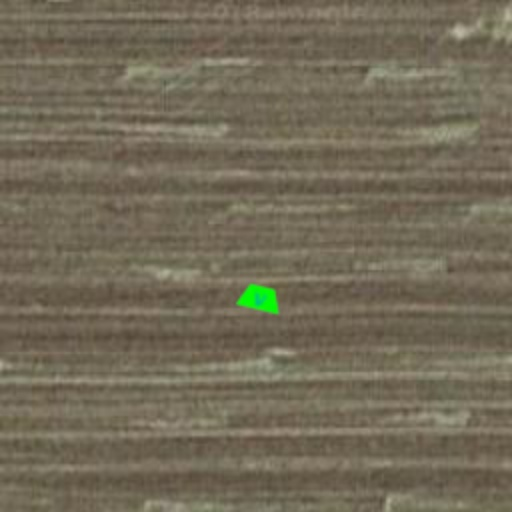trapezoid: (232, 270, 288, 326)
